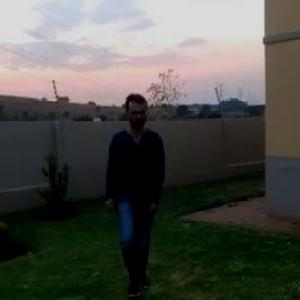follow: (103, 89, 174, 299)
